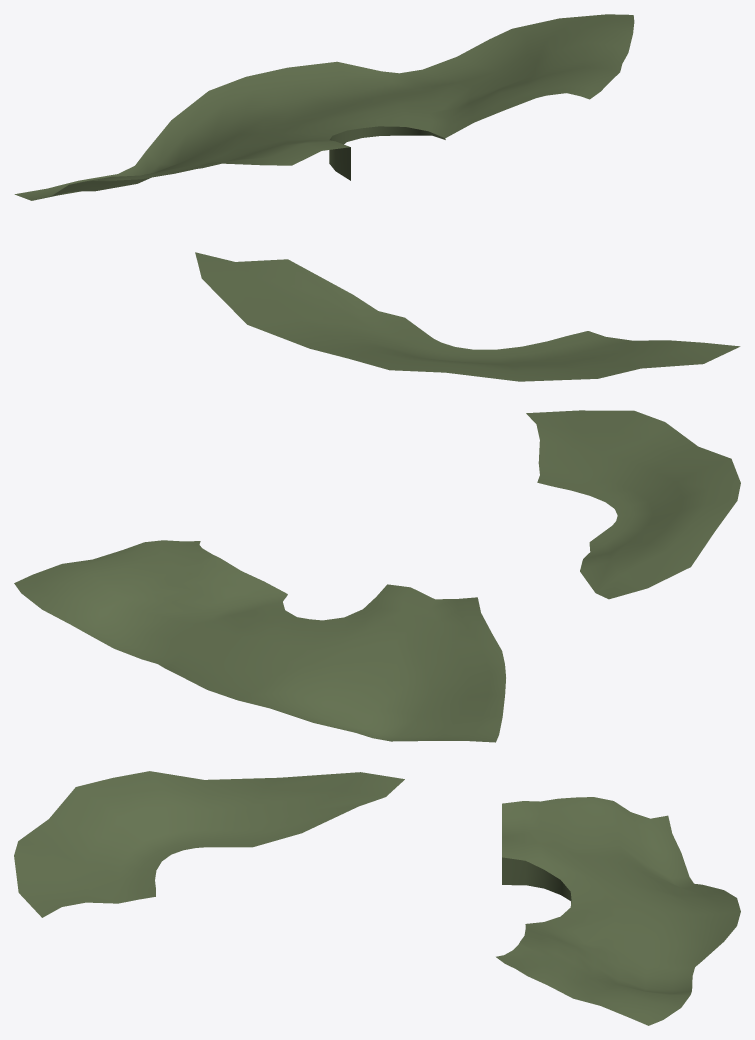
File: Outside Ground.fbx
3 renders of one model, top to bottom at view 1: azimuth 30°, elevation 25°; view 2: azimuth 150°, elevation 25°; view 3: azimuth 270°, elevation 25°, orthographic. The views are drawn at different scales.
Visible parts, largest first — view 1: Outside_Ground; view 2: Outside_Ground; view 3: Outside_Ground.
Boxes of the visible parts, left/top/right/bottom form: Outside_Ground: left=14, top=14, right=740, bottom=381; Outside_Ground: left=14, top=410, right=740, bottom=742; Outside_Ground: left=14, top=771, right=740, bottom=1025.
Size of the model in its own units: 2660 by 394 by 3342.
